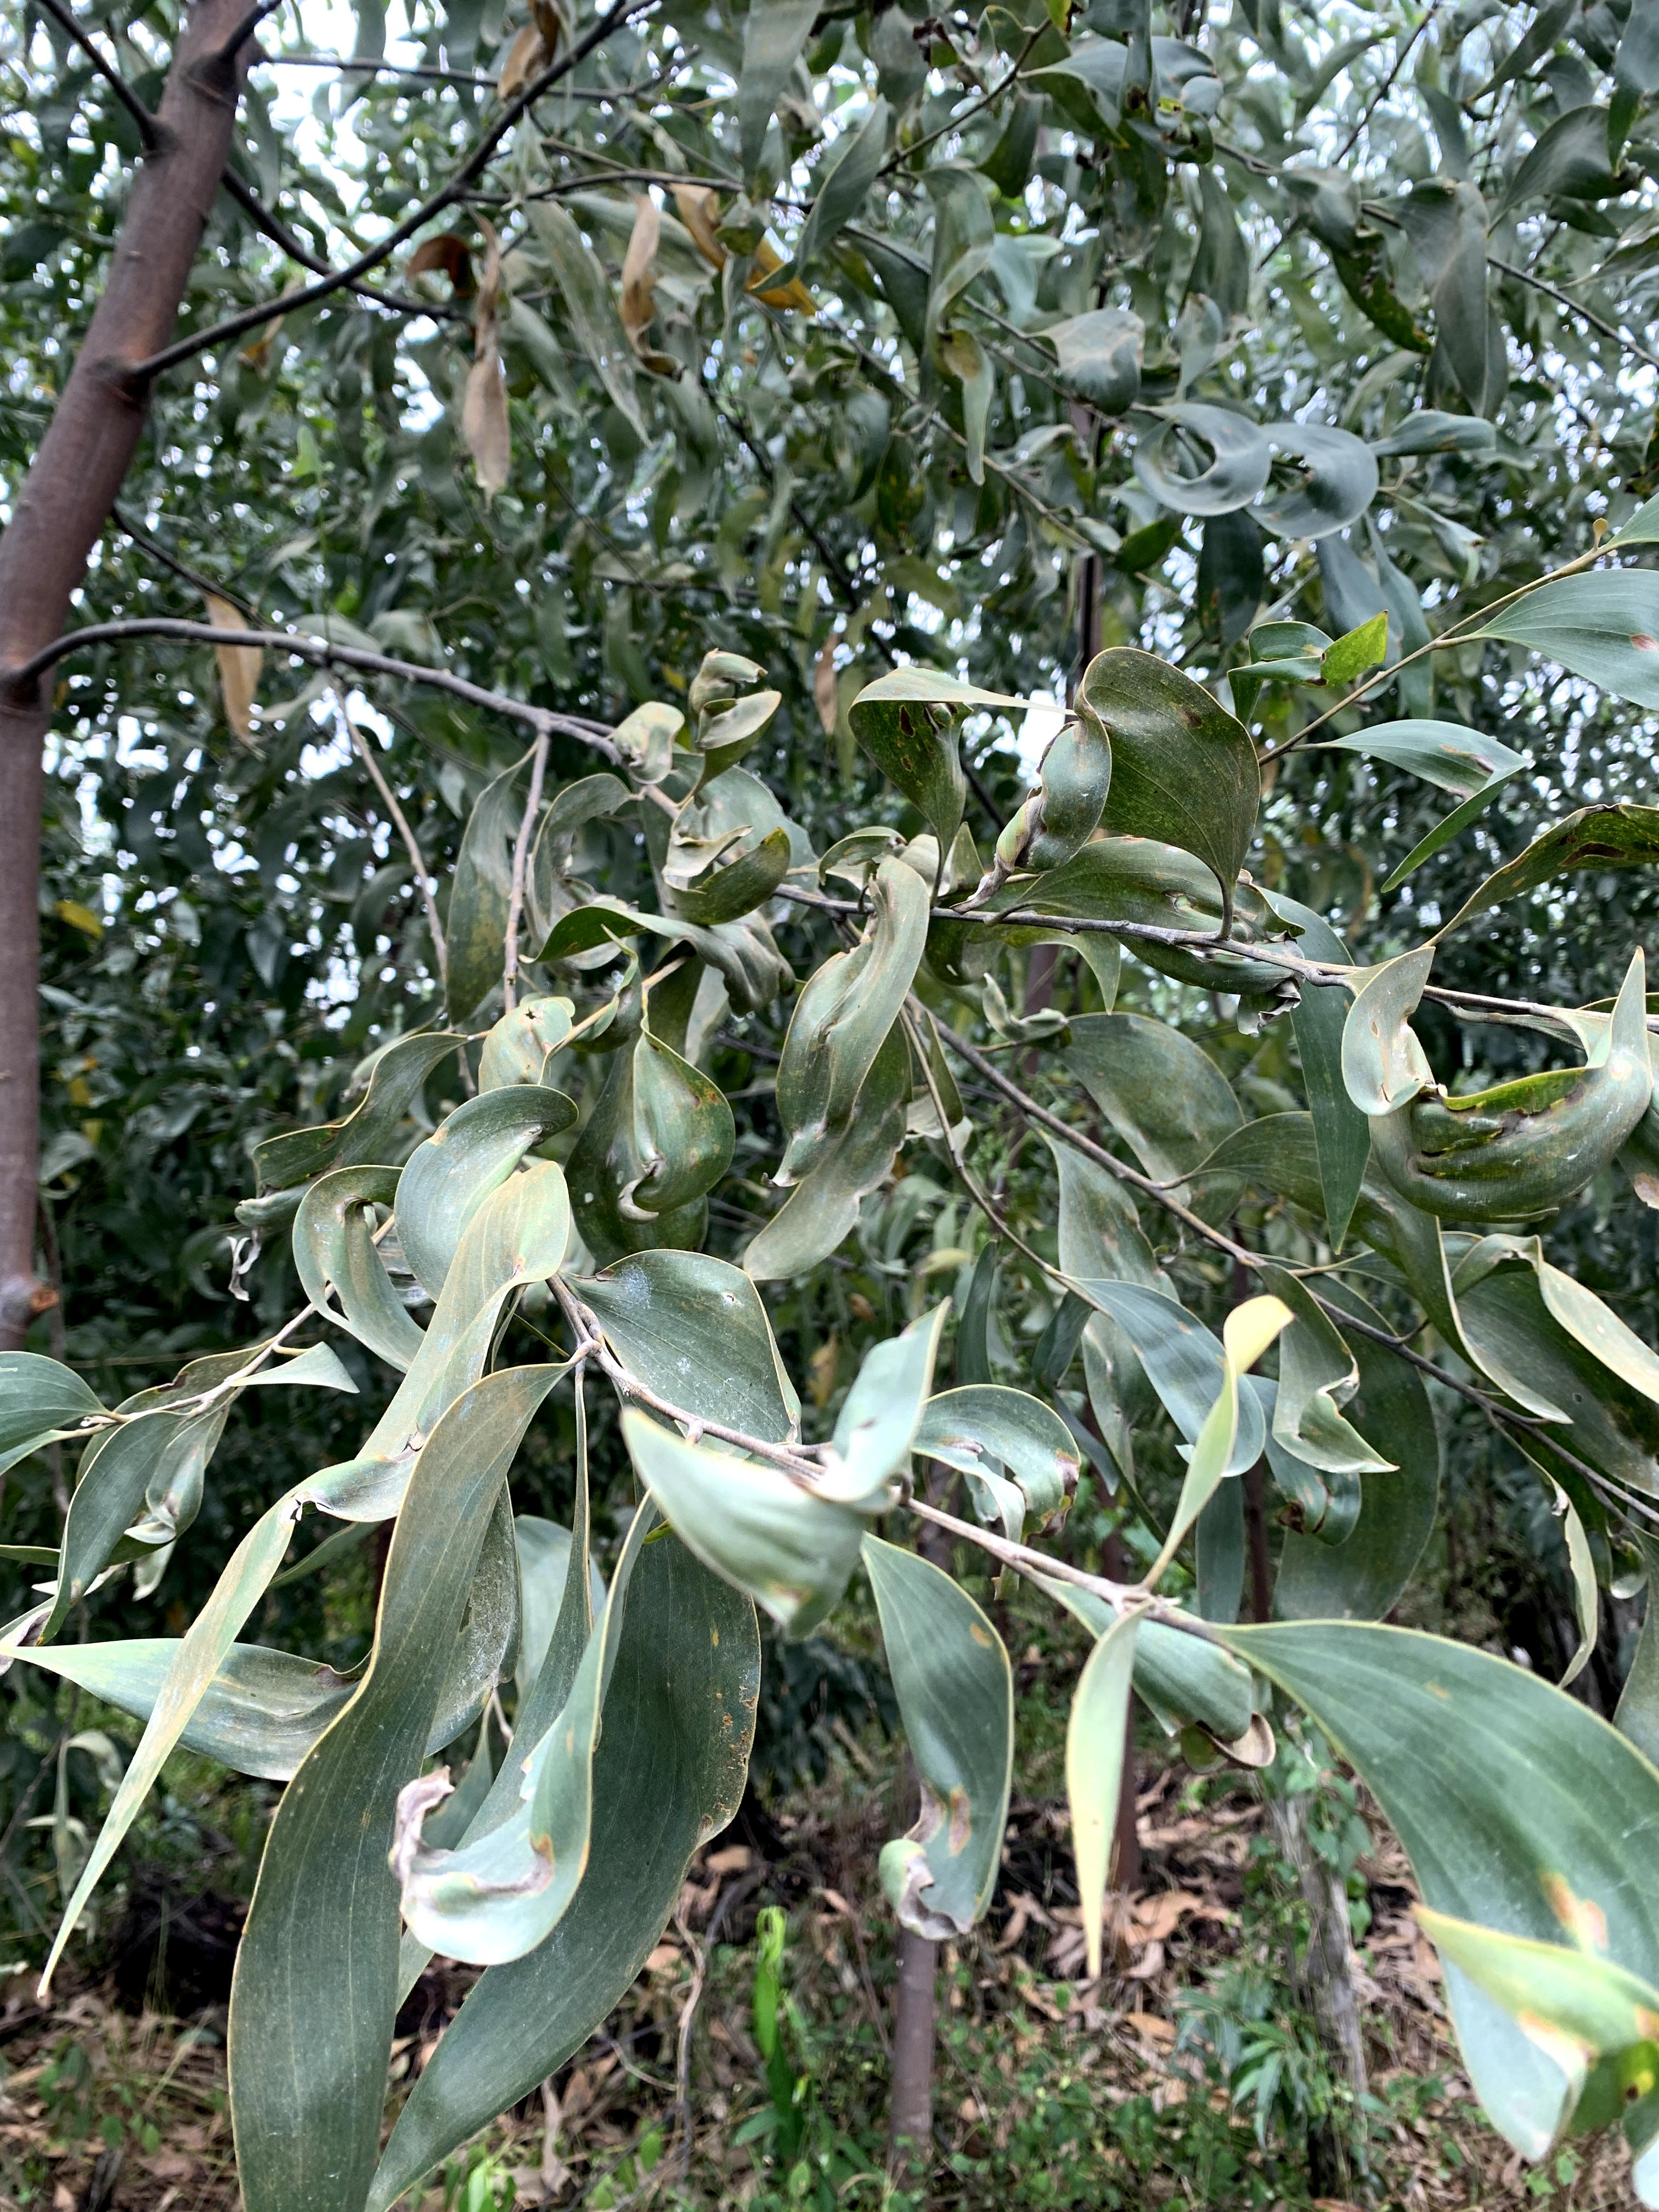Pasalora: (373, 1771, 584, 1972), (1272, 1277, 1378, 1507), (887, 1735, 988, 1956), (964, 749, 1065, 902), (659, 829, 789, 921)
